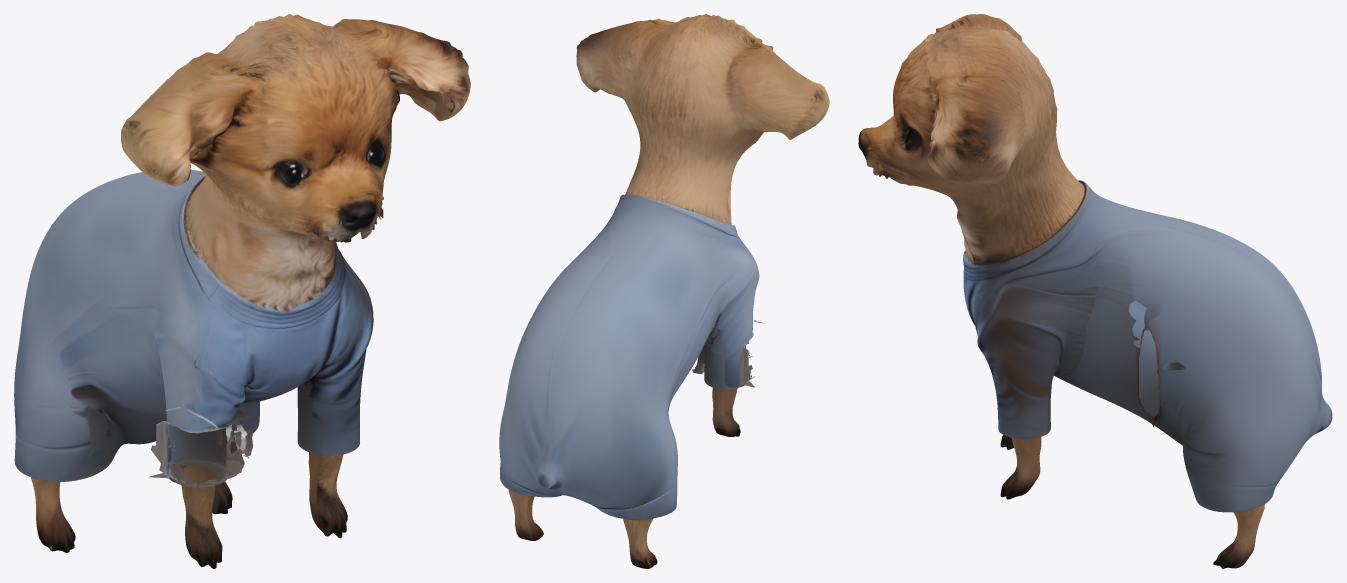
The model's file is hodu.glb.
3 views of the same model, side by side, from view 1: azimuth 30°, elevation 25°; view 2: azimuth 150°, elevation 25°; view 3: azimuth 270°, elevation 25° (orthographic). The views are drawn at different scales.
Parts seen in each view (by area): view 1: model; view 2: model; view 3: model.
Part boxes in pixels (<box>): model: <box>14,14,470,568</box>; model: <box>499,14,829,568</box>; model: <box>858,14,1332,568</box>.
Size of the model in its own units: 1.07 by 1.9 by 1.63.
1 material, 1 textured.
